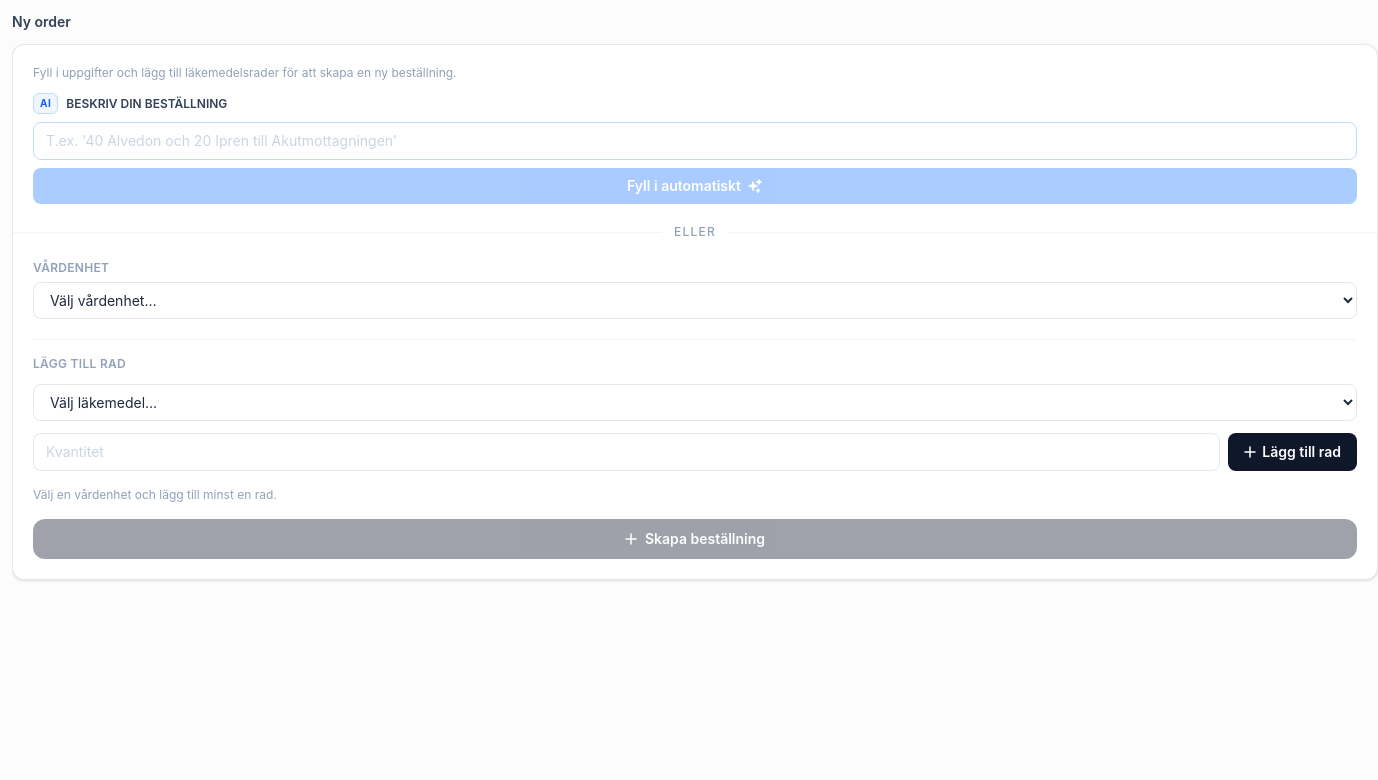
Test case: NewOrderPanel › adding a row › displays the medication name and quantity after a valid row is added
Select "Avdelning 1A" in the 1st dropdown at (695, 300), box [33,282,1357,319]
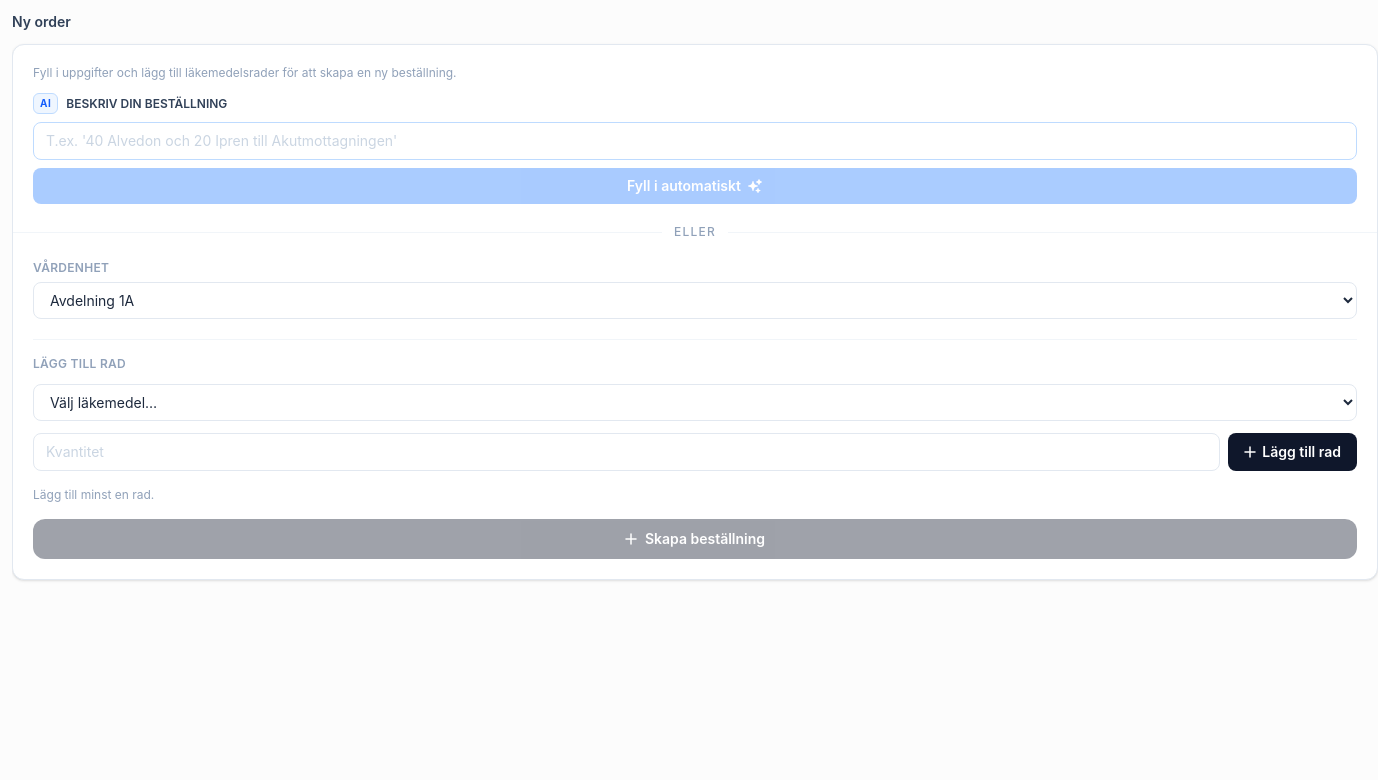
Select "Alvedon · 500 mg (Tablett)" in the 2nd dropdown at (695, 402), box [33,384,1357,421]
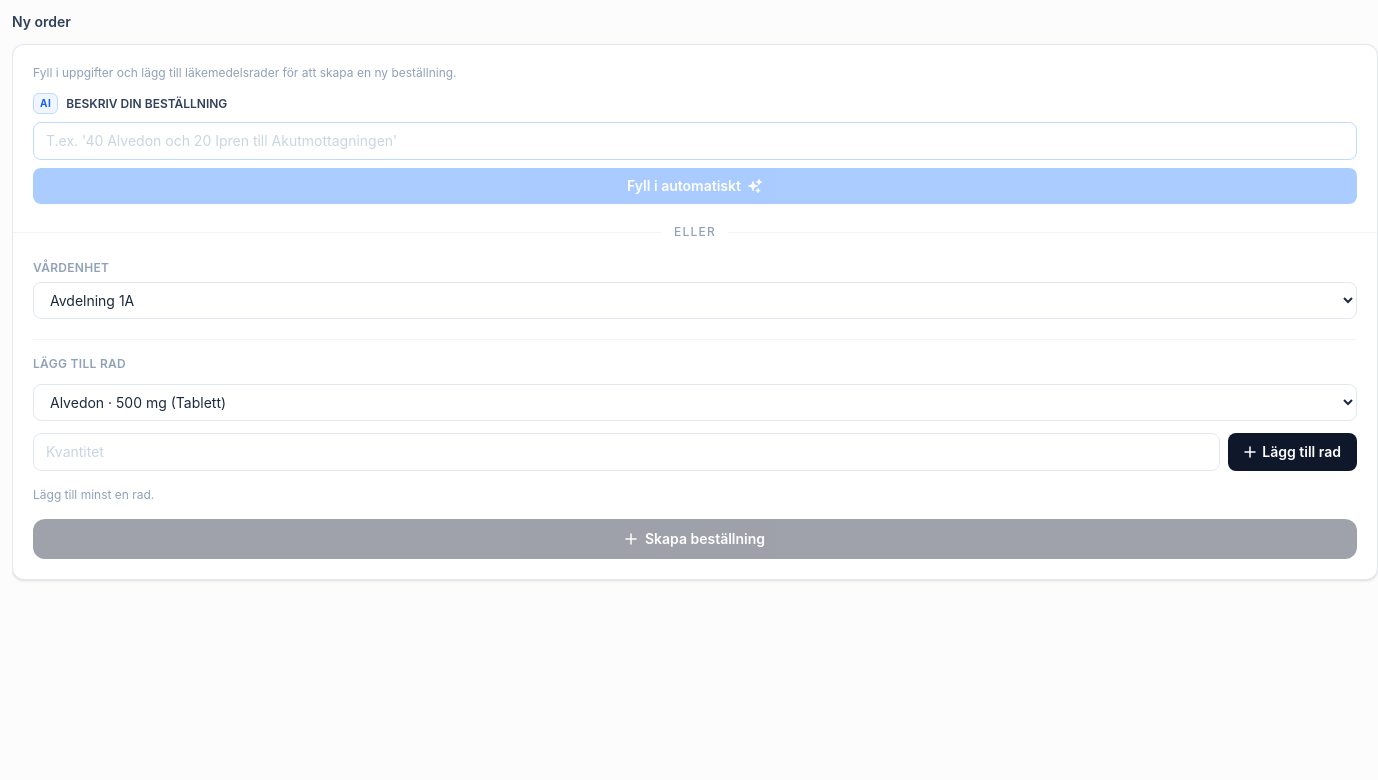
Type "50" into the number field with placeholder "Kvantitet" at (627, 452), box [33,433,1220,471]
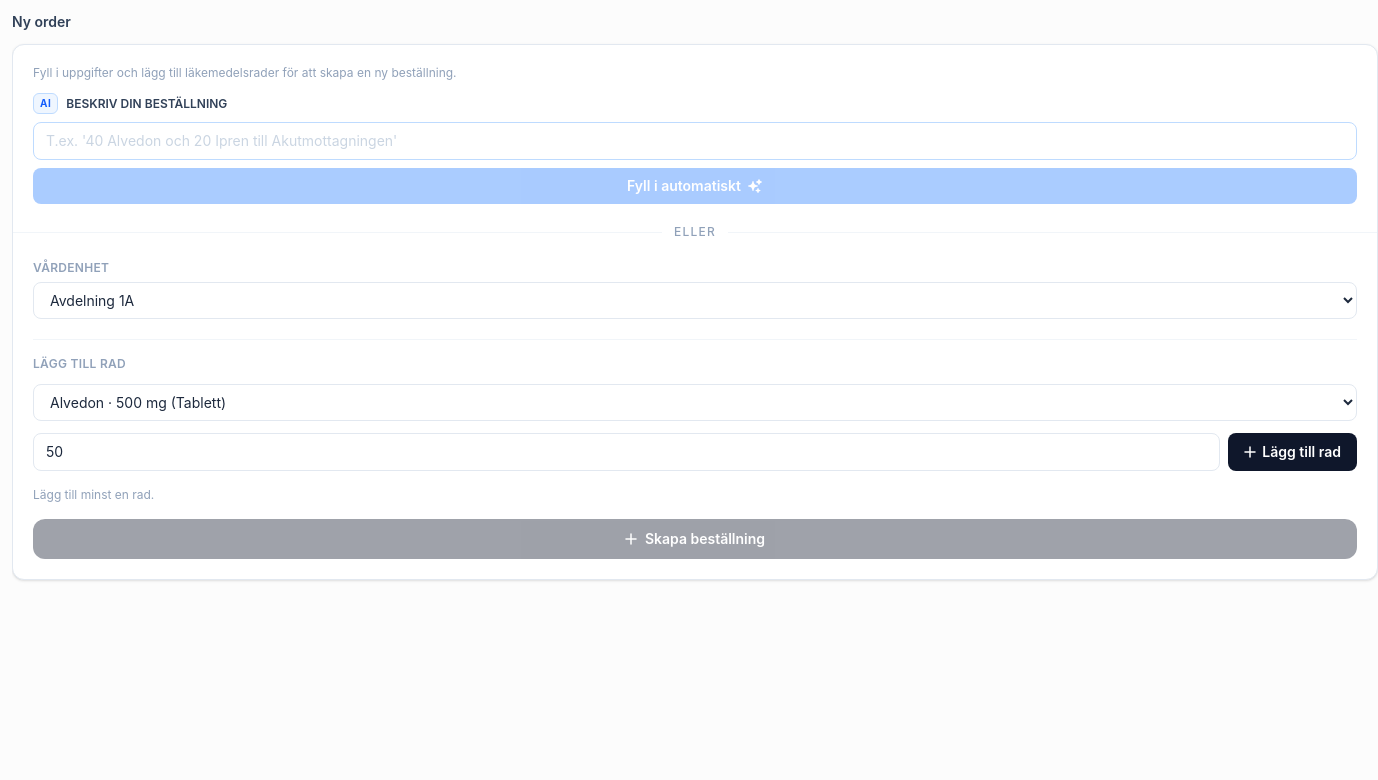
Click the button "Lägg till rad" at (1293, 452), box [1228,433,1357,471]
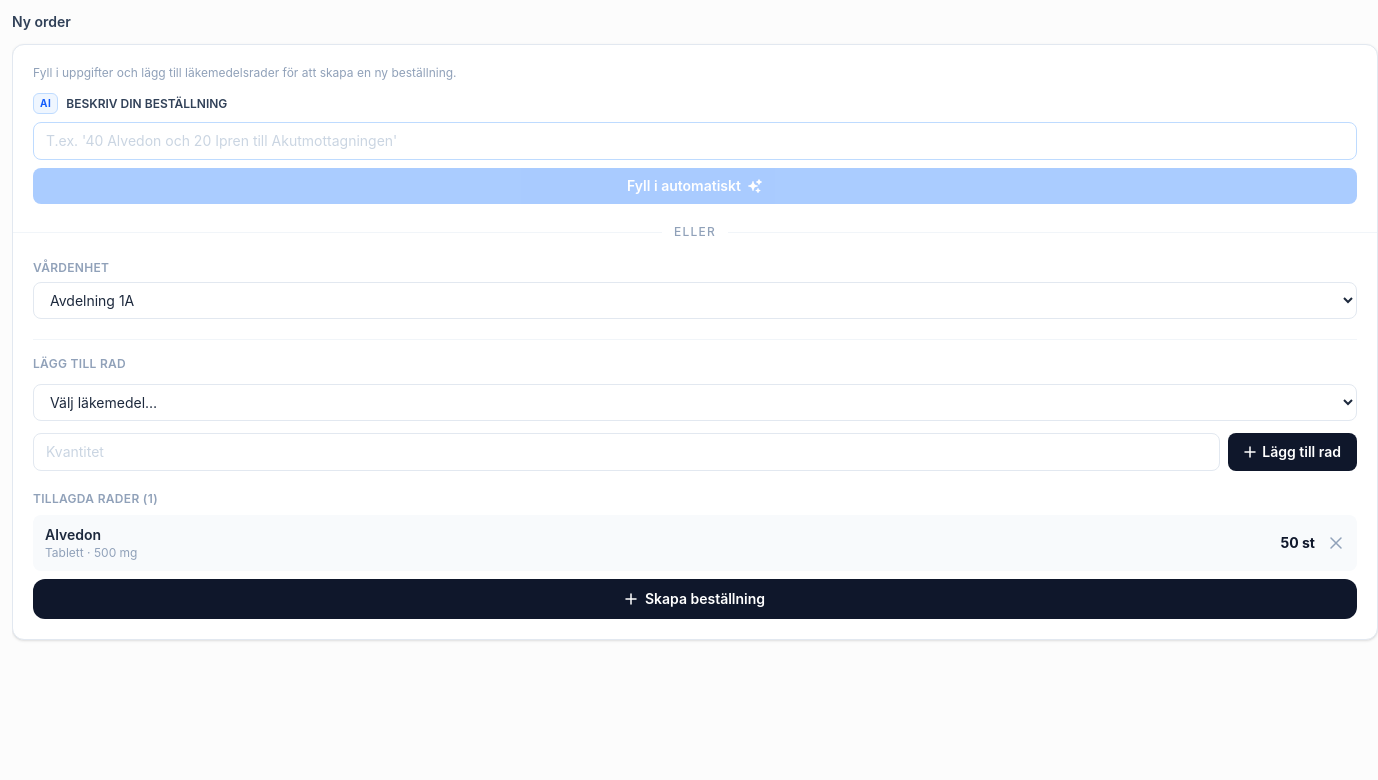
Expected: the text "Alvedon" is shown, [45,526,101,543]
Expected: the text "50 st" is shown, [1280,533,1315,553]
